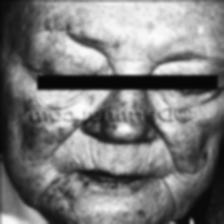Non-Cancerous Skin Condition: (22, 124, 66, 148), (45, 186, 73, 218), (199, 152, 207, 158), (136, 210, 142, 216)
